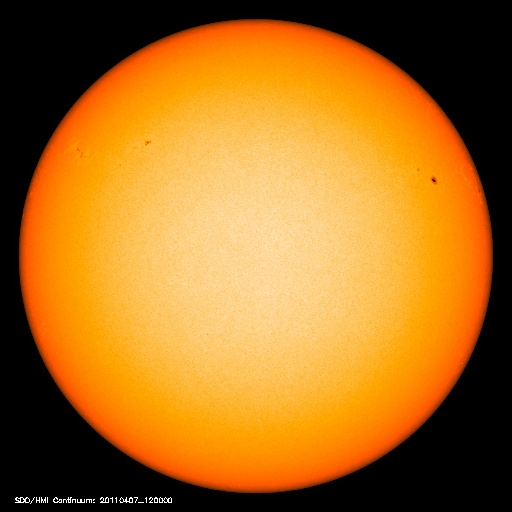sunspot: (407, 159, 450, 189), (65, 139, 93, 160), (132, 133, 161, 153)
